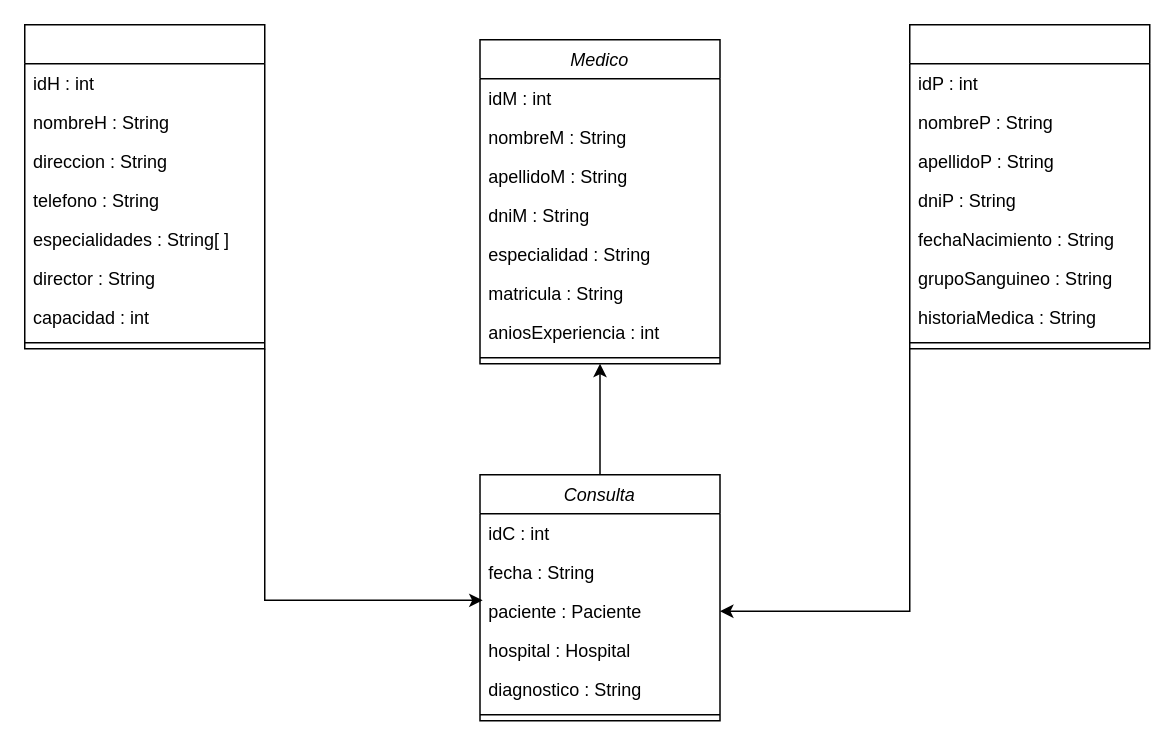
Some shapes in this 1175 by 746 pixel diagram are drawn without their labels. Each missing label, with the box of its shape:
Hospital: (23, 23, 265, 349)
Paciente: (908, 23, 1150, 349)
